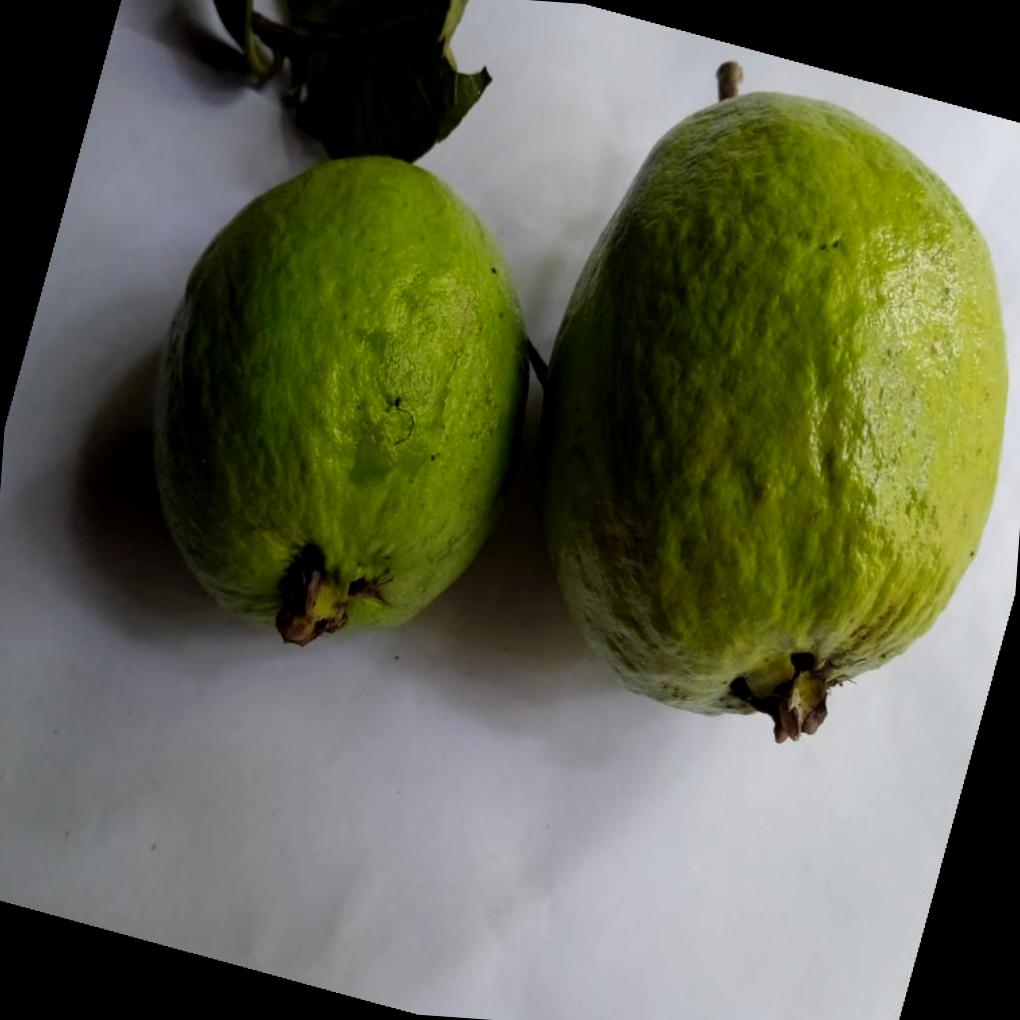FreshGuava: (538, 93, 1012, 746), (150, 156, 533, 648)
